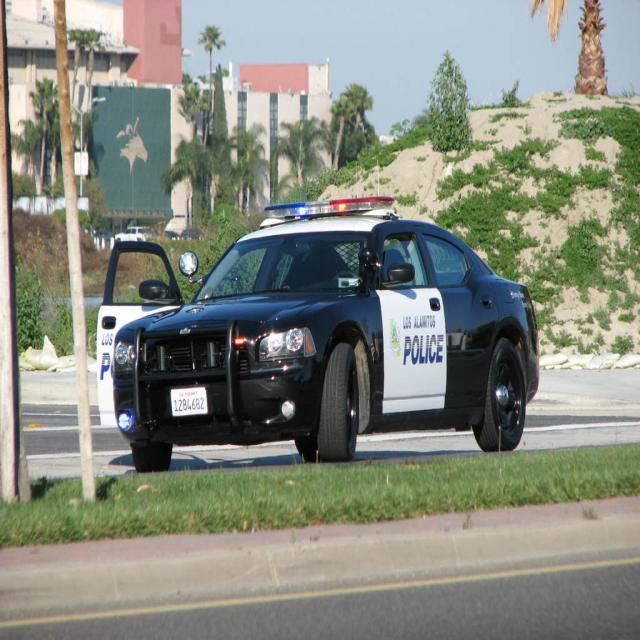car: (92, 160, 540, 468)
